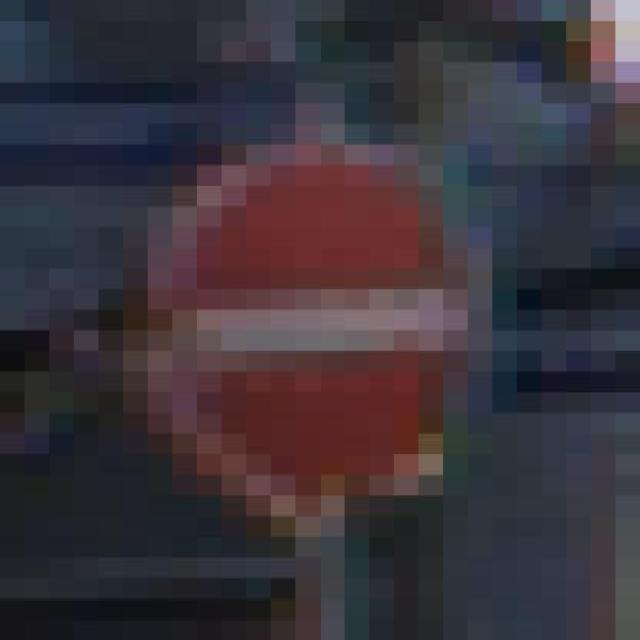No Entry: (74, 83, 517, 537)
